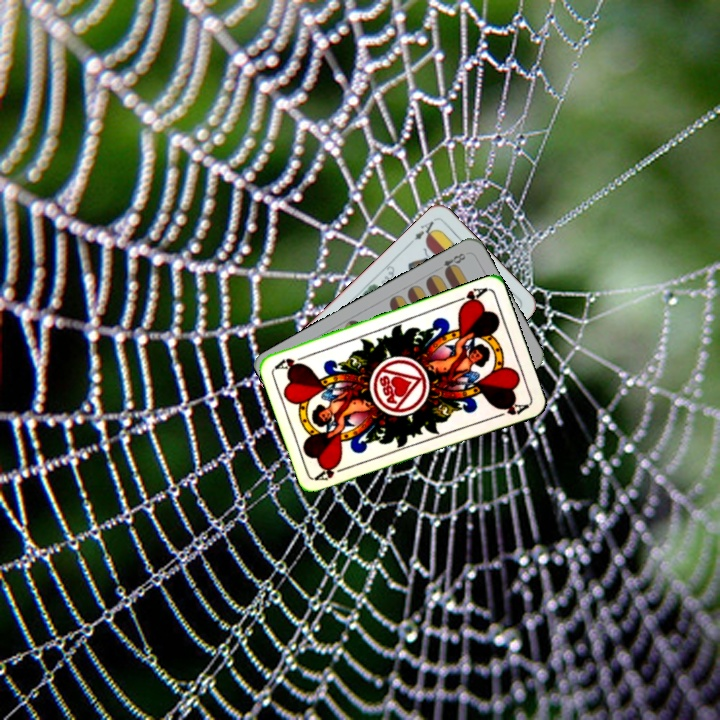E8: (432, 249, 468, 276)
EA: (405, 215, 439, 247)
HA: (450, 284, 489, 310), (312, 461, 352, 483)
